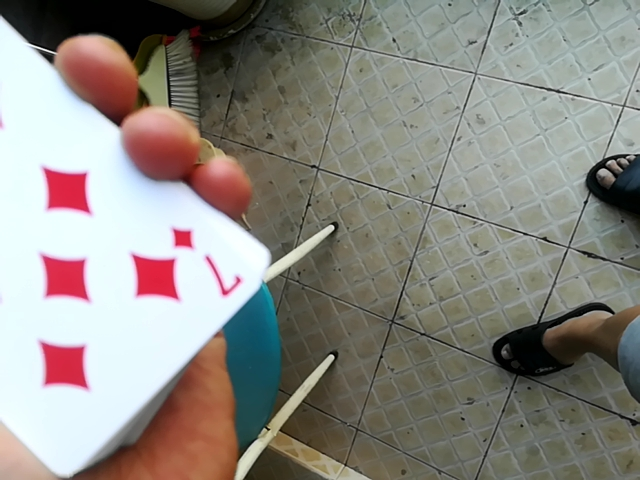fk 7: (0, 16, 251, 480)
